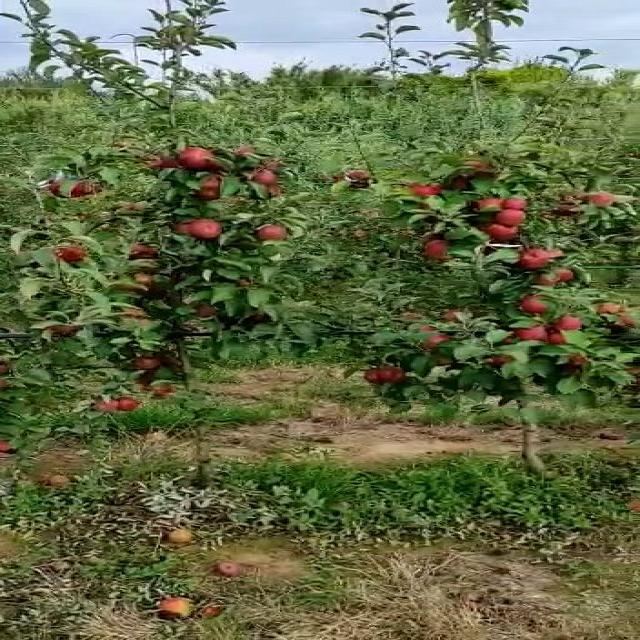100-_ripeness: (516, 247, 564, 271), (173, 146, 218, 168), (49, 174, 91, 196), (418, 236, 460, 258), (516, 290, 556, 312), (586, 188, 616, 217), (187, 219, 224, 241), (549, 315, 586, 337), (187, 180, 231, 198), (516, 321, 549, 343), (496, 195, 534, 214), (372, 364, 403, 383), (258, 223, 284, 245), (58, 246, 87, 265), (491, 207, 524, 222), (102, 396, 133, 410), (125, 358, 156, 371)
